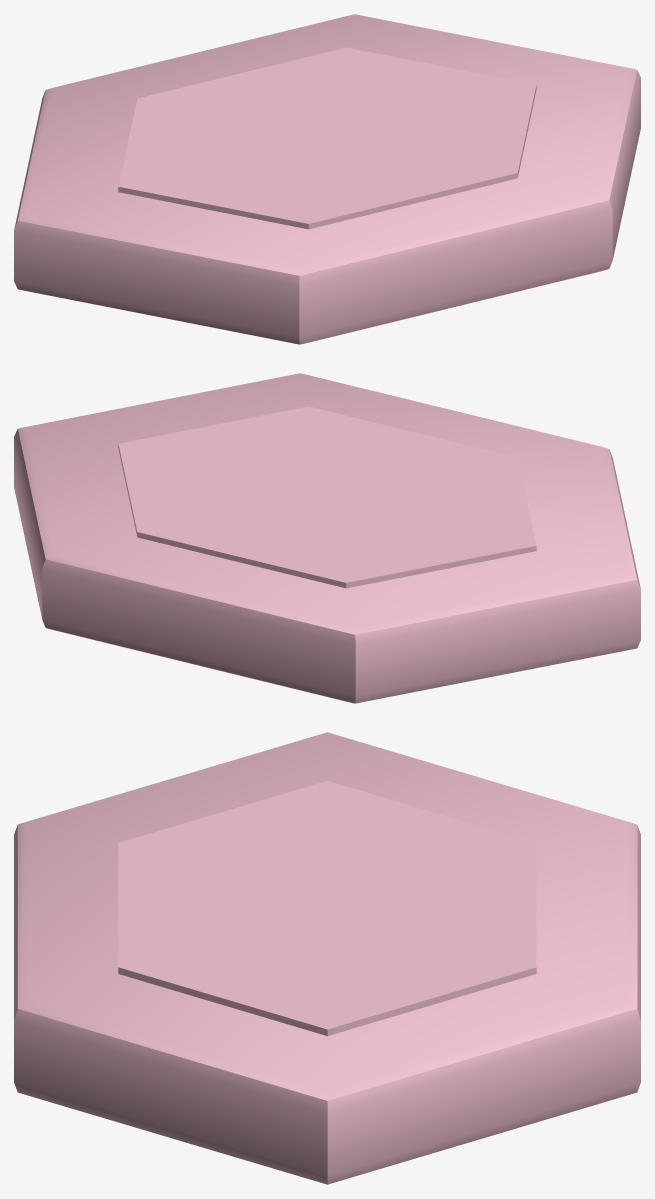
File: chalk.glb
3 renders of one model, top to bottom at view 1: azimuth 30°, elevation 25°; view 2: azimuth 150°, elevation 25°; view 3: azimuth 270°, elevation 25°, orthographic. The views are drawn at different scales.
Parts seen in each view (by area): view 1: chalk; view 2: chalk; view 3: chalk.
Boxes of the visible parts, x1,y1,x2,y2 form: chalk: (14, 14, 640, 344); chalk: (14, 373, 640, 703); chalk: (14, 732, 640, 1184).
Size of the model in its own units: 0.06 by 0.0075 by 0.0426.
